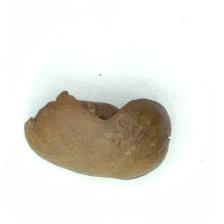NG: (24, 90, 142, 138)
